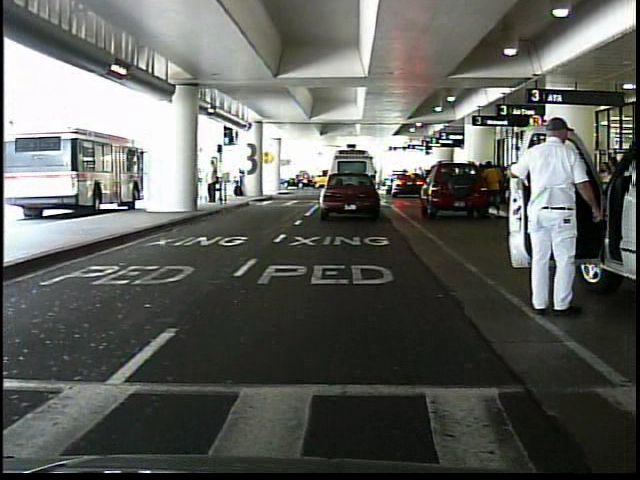person: (504, 111, 599, 318), (561, 149, 592, 226), (484, 157, 504, 218), (205, 155, 221, 206), (232, 163, 248, 199)
